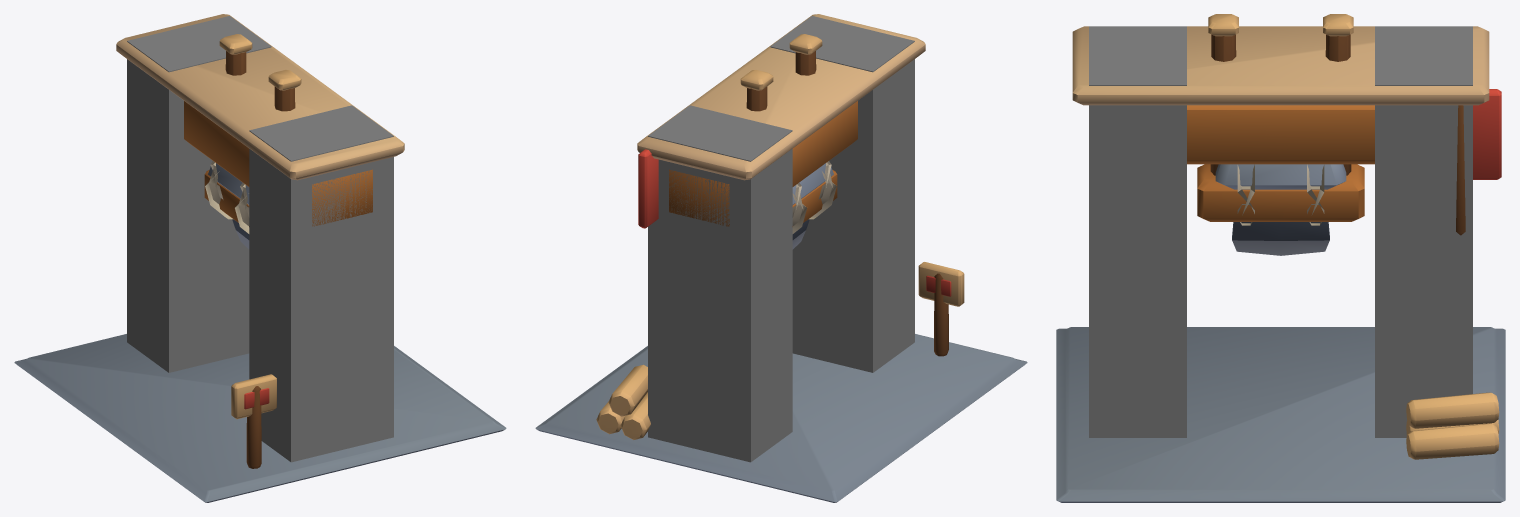
File: stone_splitter.glb
3 renders of one model, left to right at view 1: azimuth 30°, elevation 25°; view 2: azimuth 150°, elevation 25°; view 3: azimuth 270°, elevation 25°, orthographic. The views are drawn at different scales.
Visible parts, largest first — view 1: StoneSplitter_Static, COL_PillarNegY, COL_PillarPosY, Anim_Blade; view 2: StoneSplitter_Static, COL_PillarPosY, COL_PillarNegY, Anim_Blade; view 3: StoneSplitter_Static, COL_PillarNegY, COL_PillarPosY, Anim_Blade.
Part boxes in pixels (x1,y1,x2,y2): StoneSplitter_Static: (14,14,506,502); COL_PillarNegY: (249,105,393,462); COL_PillarPosY: (127,16,271,372); Anim_Blade: (204,34,301,249); StoneSplitter_Static: (535,14,1027,502); COL_PillarPosY: (648,105,792,462); COL_PillarNegY: (770,16,914,372); Anim_Blade: (740,34,837,249); StoneSplitter_Static: (1056,26,1505,502); COL_PillarNegY: (1089,26,1186,437); COL_PillarPosY: (1375,26,1472,437); Anim_Blade: (1197,14,1364,255).
Size of the model in its own units: 2 by 2.15 by 2.2.
